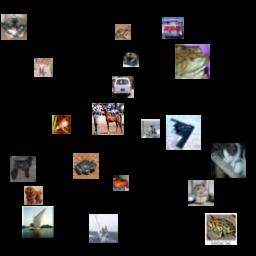airplane: (166, 115, 201, 150)
automobile: (112, 76, 134, 98), (113, 175, 129, 191)
cat: (211, 143, 246, 178), (188, 180, 214, 206), (34, 58, 53, 77)
dog: (1, 14, 27, 40), (10, 156, 36, 182), (24, 186, 43, 205)
frog: (175, 44, 210, 79), (205, 213, 237, 245), (73, 153, 99, 179), (52, 115, 71, 134), (115, 24, 131, 40), (123, 51, 139, 67)
ship: (22, 206, 54, 238), (89, 214, 118, 243), (141, 119, 160, 138)
truck: (162, 17, 184, 39)
